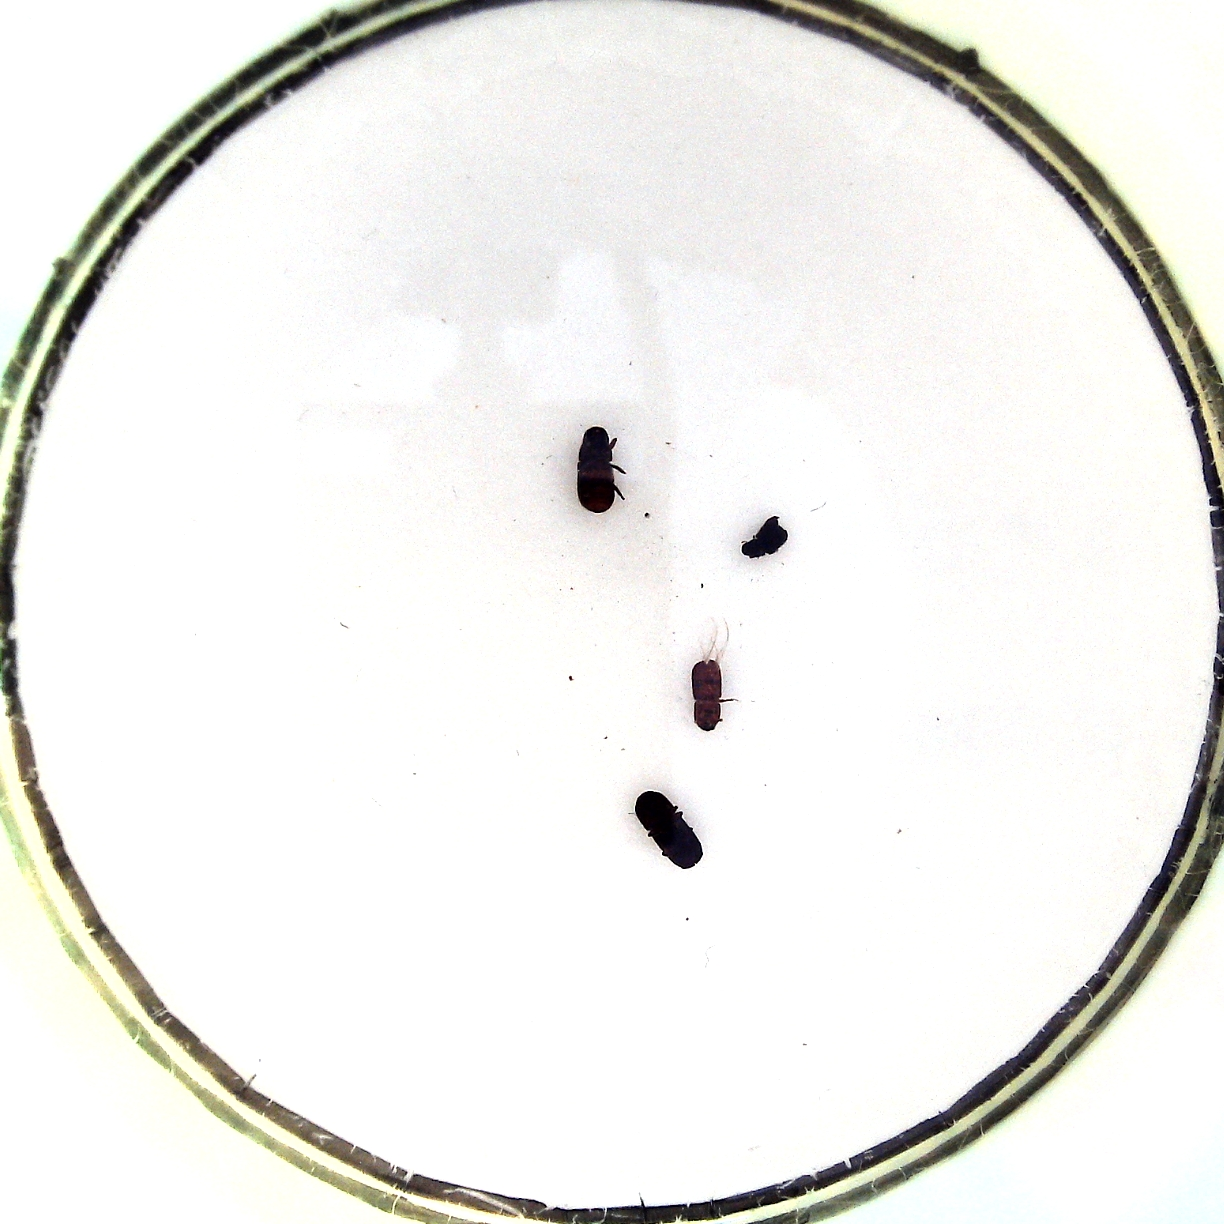Linnaeus: (628, 782, 705, 871)
acuminatus: (689, 643, 733, 733)
armandi: (571, 420, 630, 517)
coleoptera: (735, 512, 792, 559)
